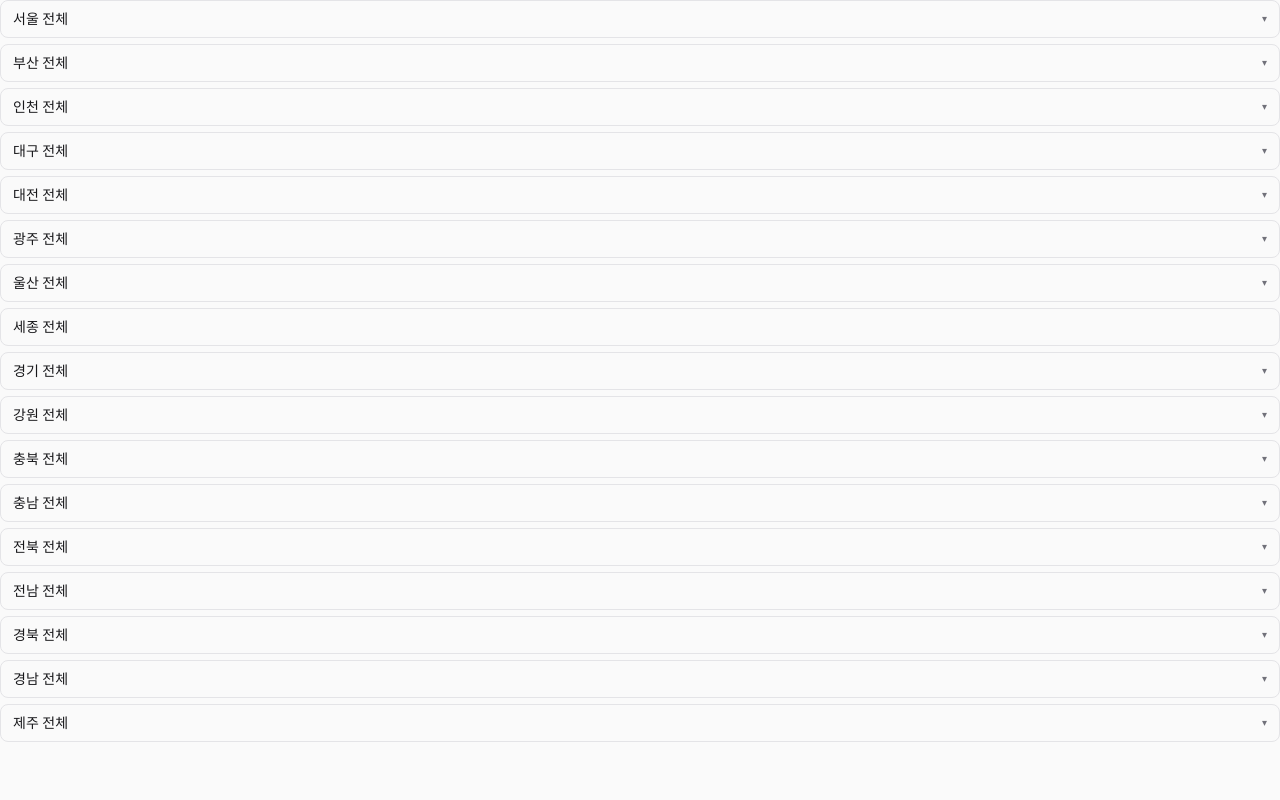
Test: RegionDetailPicker — 광역 expand 하면 detail 칩 렌더 › 서울 헤더 클릭 → 강남구 등 detail 체크박스가 보인다
Step 1. Click the button "서울 전체 ▾" → (41, 19), box [13,9,1267,29]
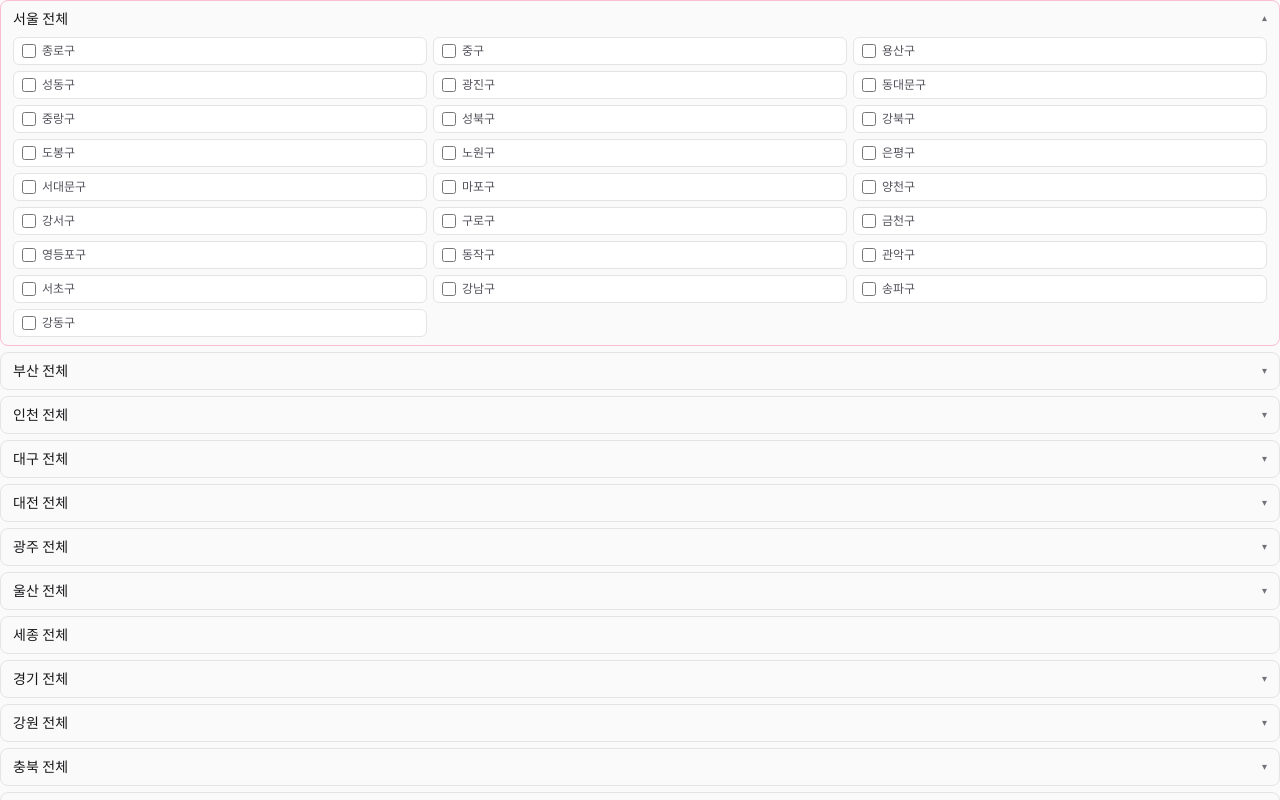
Check: the text "강남구" is shown, box [462,280,495,298]
